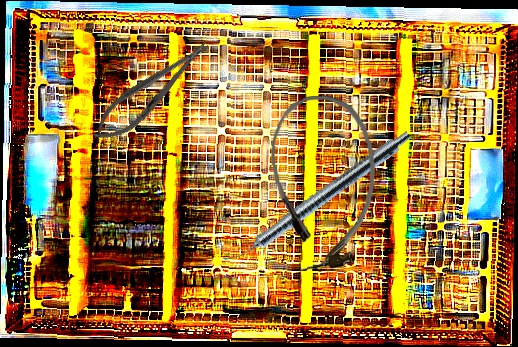Cannula: (267, 92, 381, 273)
Handpiece: (221, 124, 414, 273)
Needle Holder: (84, 31, 219, 152)
